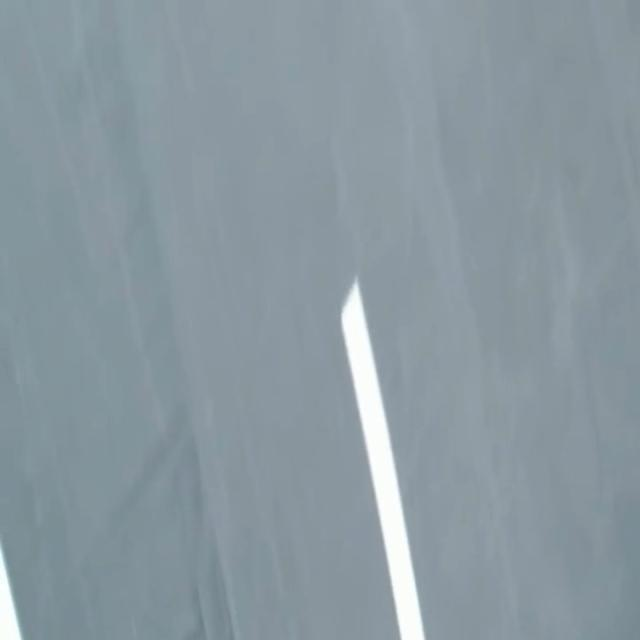center: (342, 278, 425, 639)
left: (0, 542, 21, 639)
